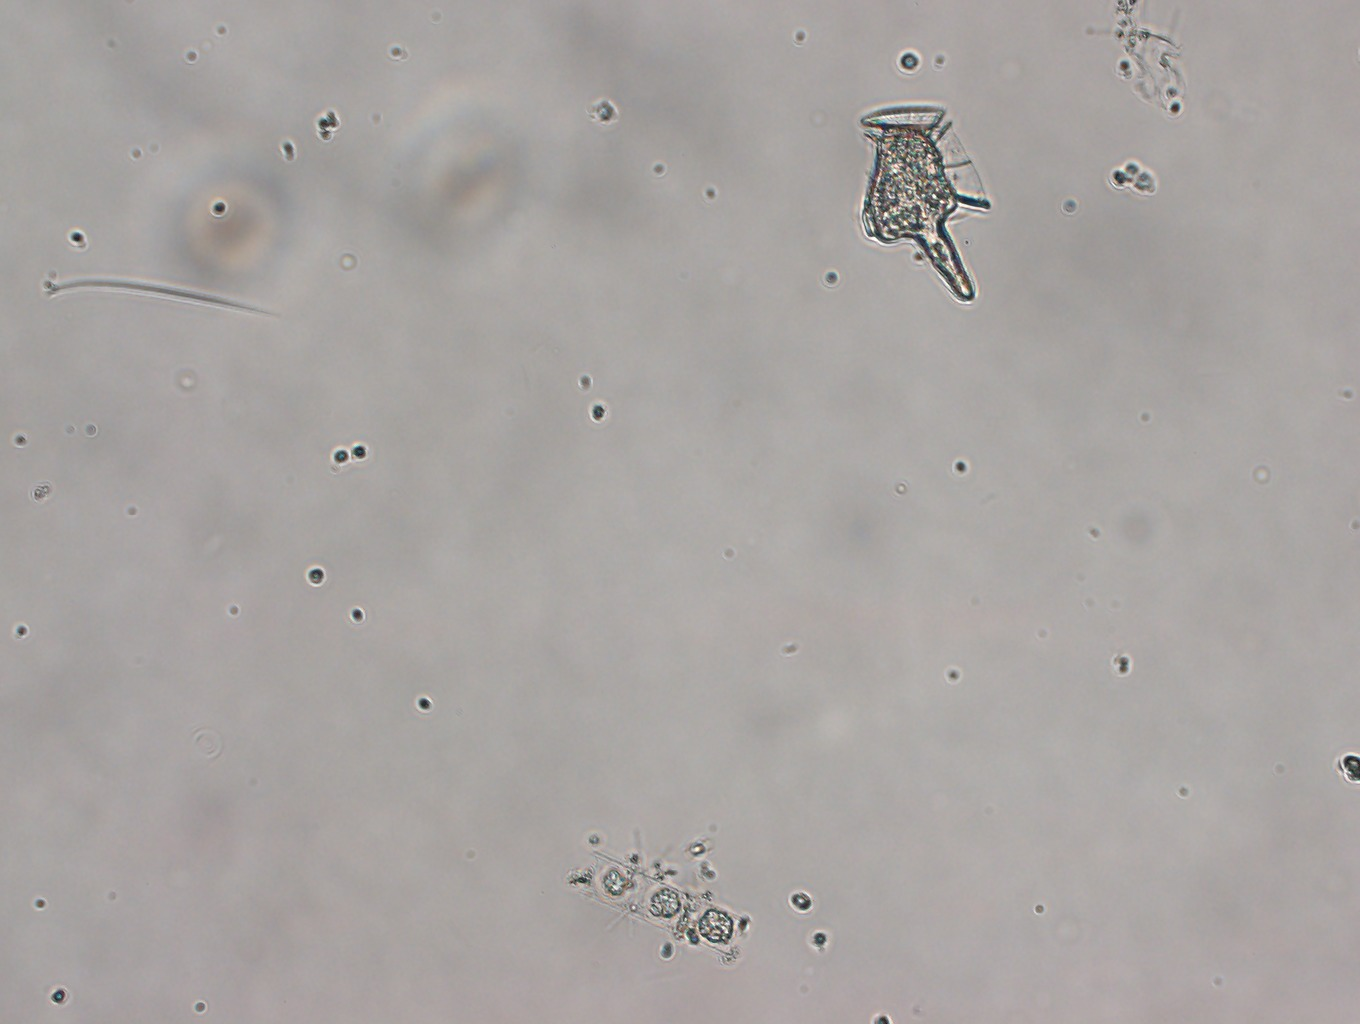chaetoceros: (559, 802, 758, 979)
dinophysis caudata: (844, 87, 994, 314)
